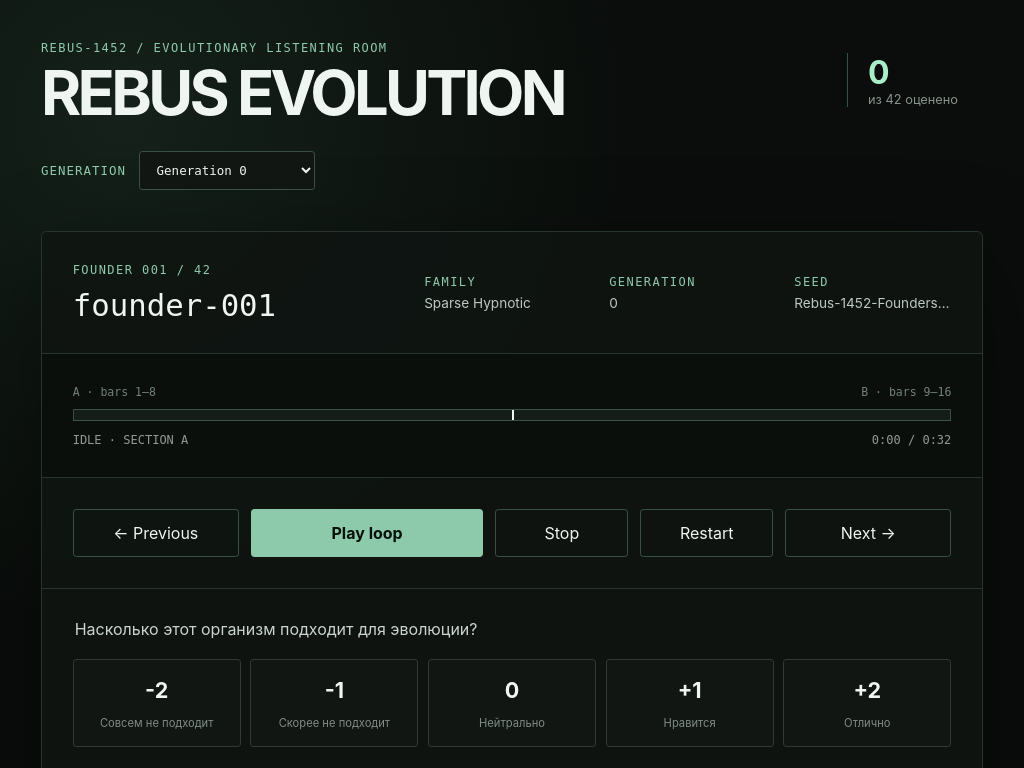
Test: App › keeps playing across Next and starts the next organism at zero
The width and height of the screenshot is (1024, 768).
Step 1. Click the button "Play loop" → point(367, 533), box [251,509,483,557]
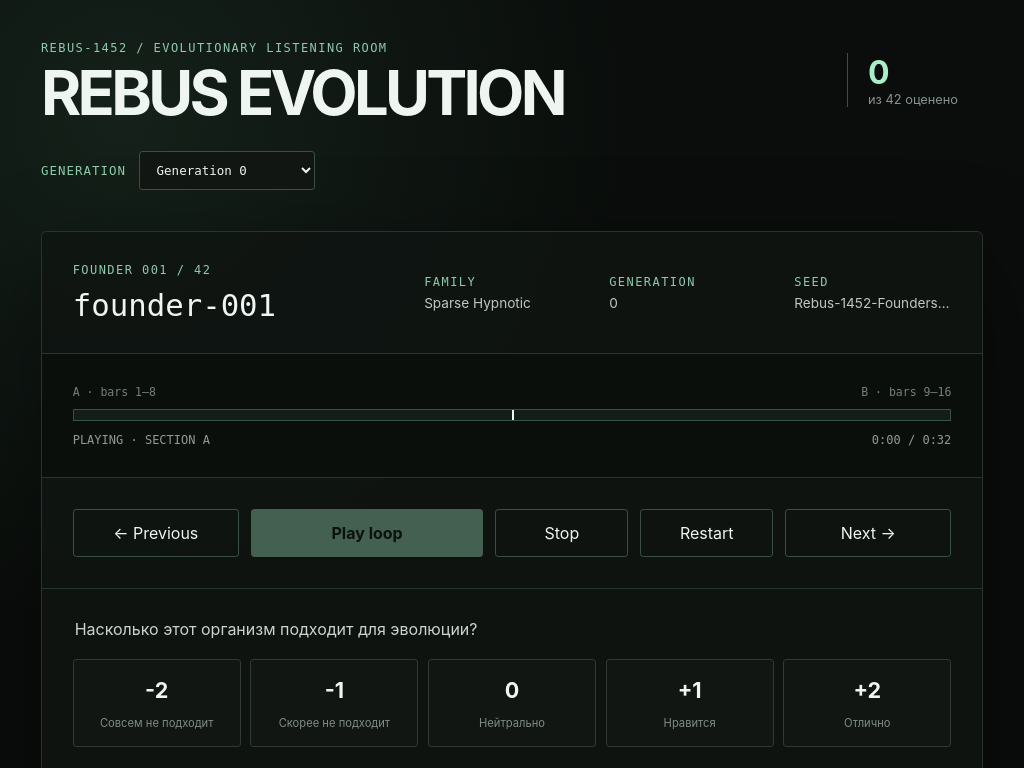
Now the message shows "playing", box [73,433,123,447]
Step 2. Click the button "Next →" → point(868, 533), box [785,509,951,557]
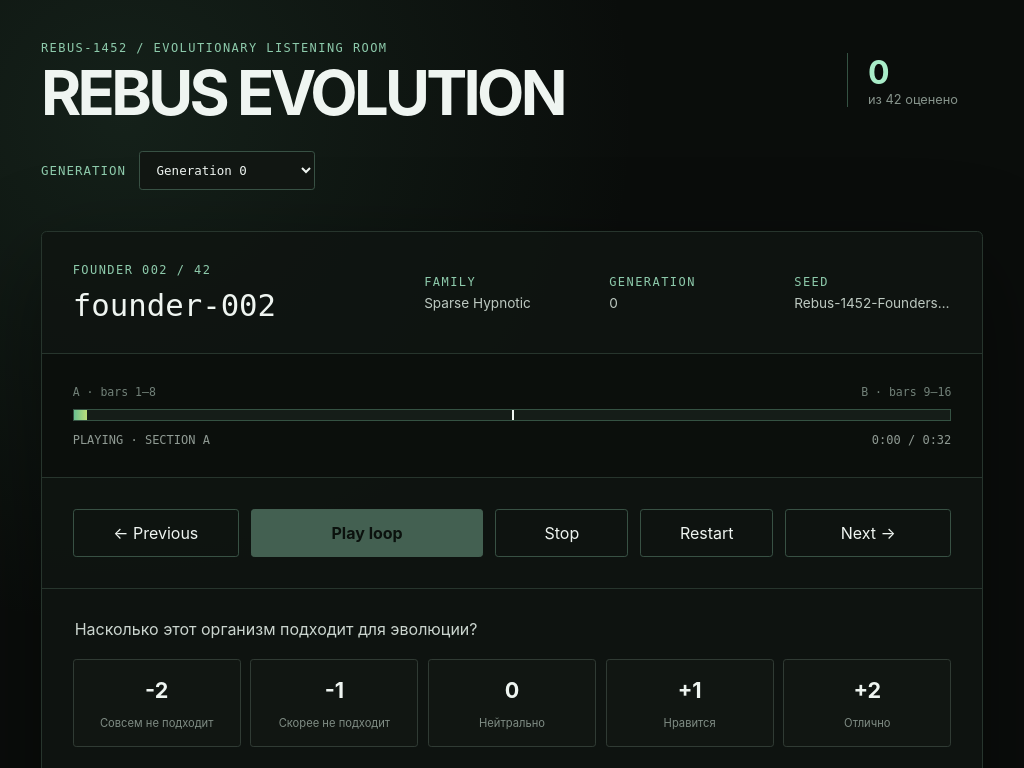
Now the message reads "playing · section A 0:00 / 0:32", box [73,433,951,447]
Now the heading "founder-002" is shown, box [73,287,276,323]
